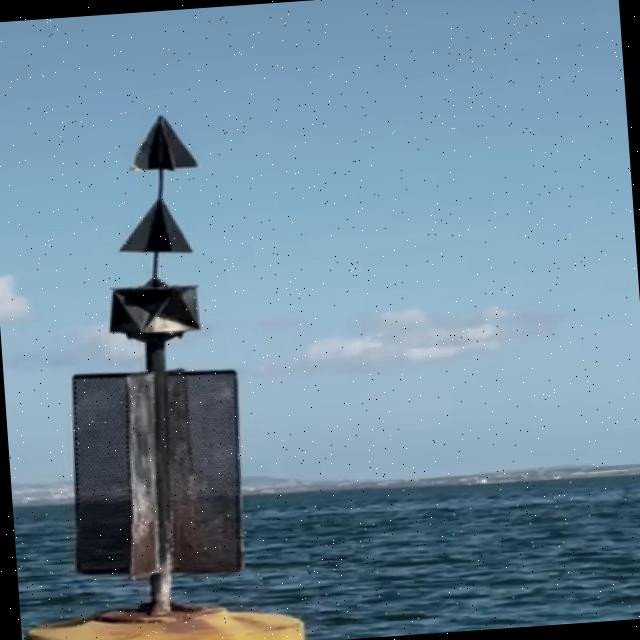marque: (1, 103, 320, 640)
